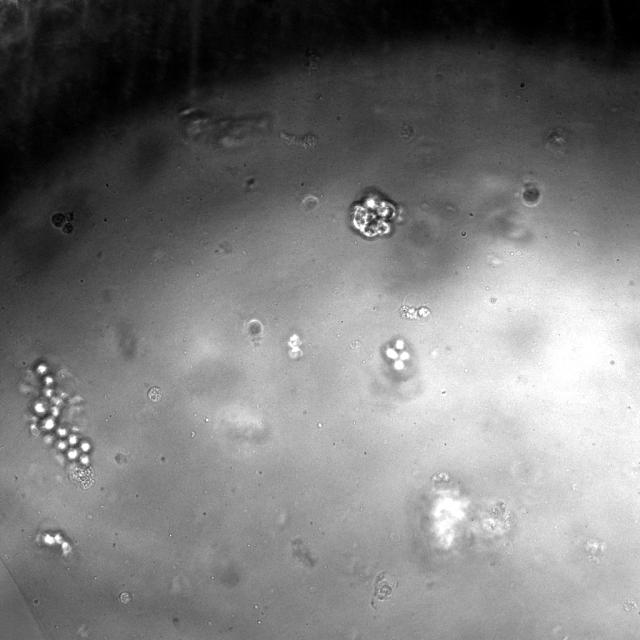organoid: (407, 472, 516, 573), (21, 360, 94, 488), (180, 108, 271, 148), (351, 190, 399, 239), (381, 336, 412, 376), (36, 530, 72, 556), (51, 211, 77, 234), (521, 179, 541, 206), (399, 304, 431, 320), (288, 334, 302, 358), (147, 386, 162, 402), (249, 319, 262, 334), (118, 591, 131, 604)
